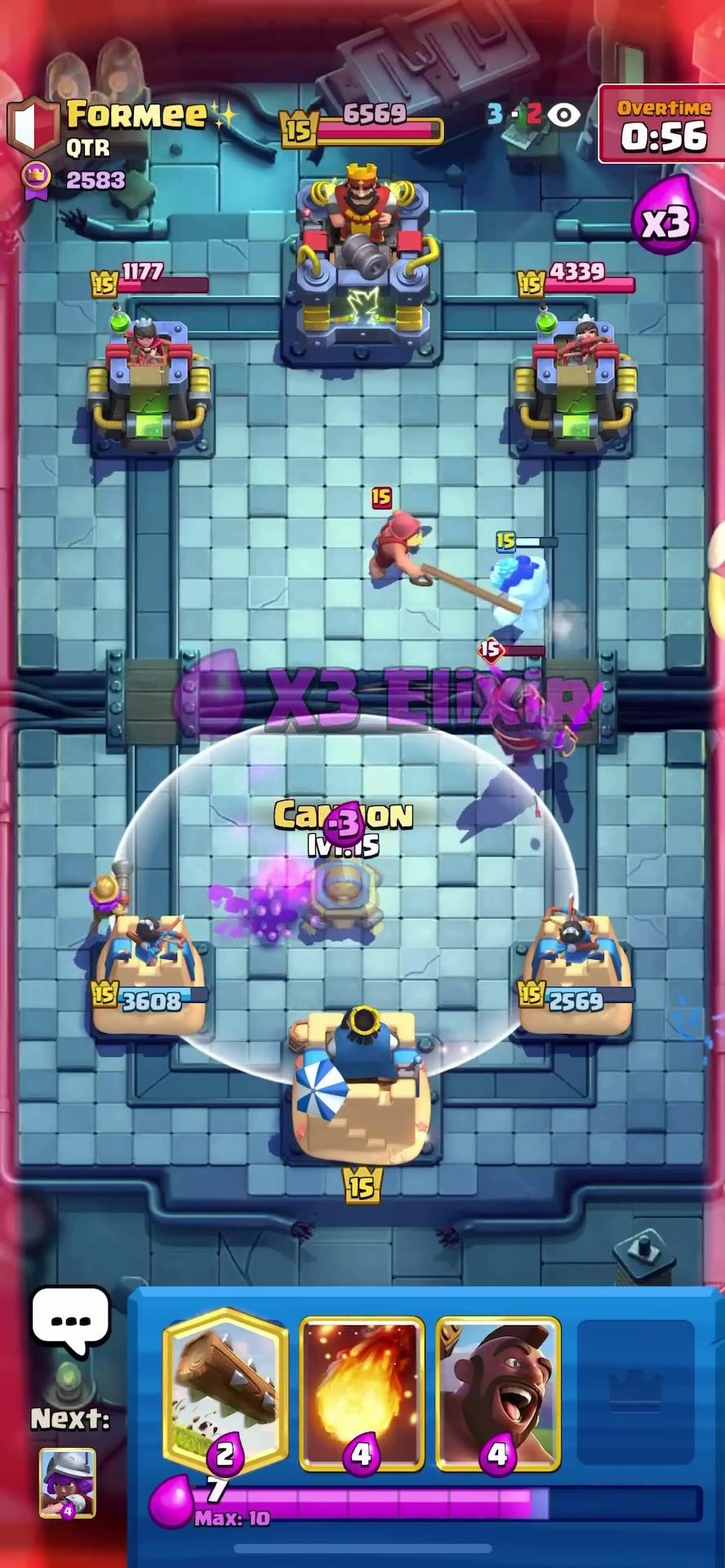ice_golem: (482, 541, 563, 627)
musketeer: (71, 858, 141, 933)
